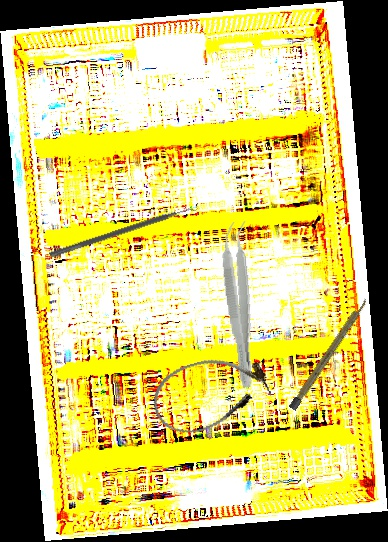Cannula: (145, 345, 276, 442)
Scalpel Handle: (288, 297, 370, 411)
Spatula Surgical: (49, 202, 198, 265)
Tissue Forceps: (217, 220, 265, 389)
